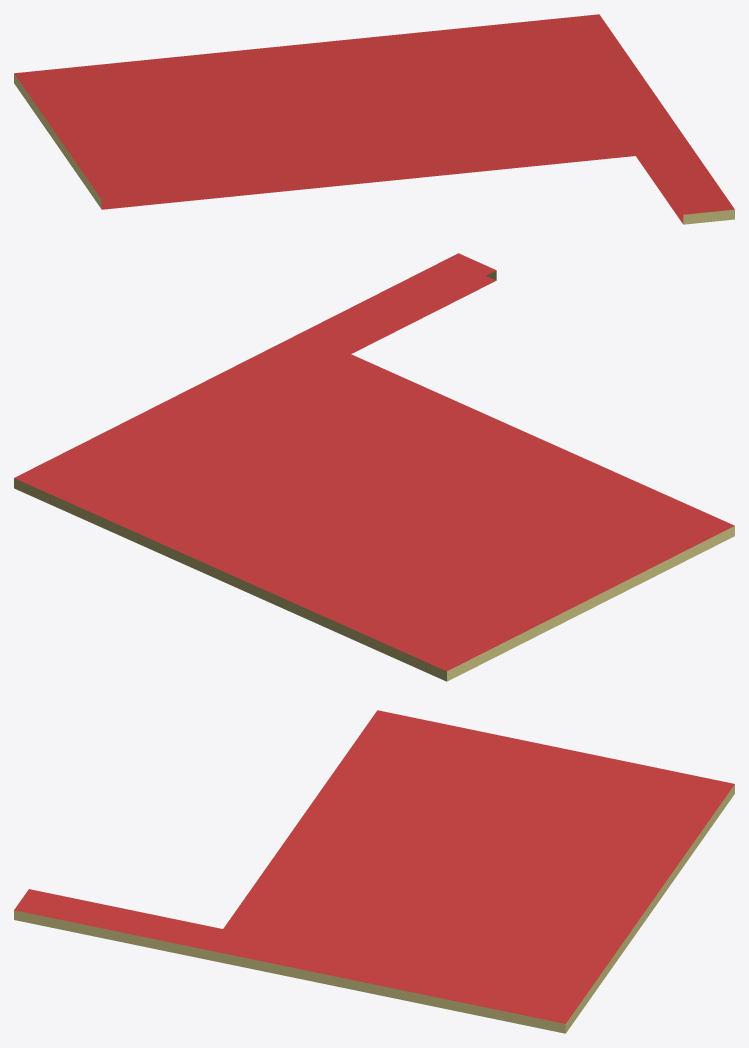
The picture shows the model from 3 angles, top to bottom: view 1: azimuth 30°, elevation 25°; view 2: azimuth 150°, elevation 25°; view 3: azimuth 270°, elevation 25°; orthographic projection. The views are drawn at different scales.
Size of the model in its own units: 6.26 by 6.69 by 0.554.
